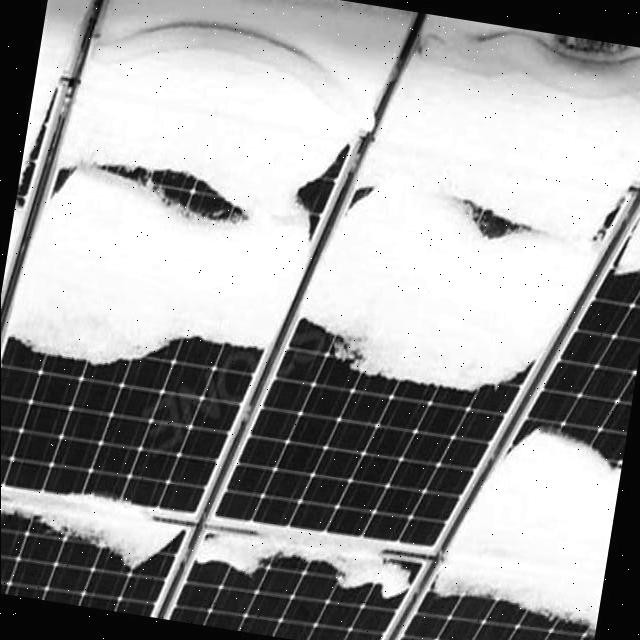Anomaly Solar Panel: (0, 1, 639, 637)
Snow: (4, 0, 640, 397), (0, 467, 415, 605), (428, 405, 626, 623)
